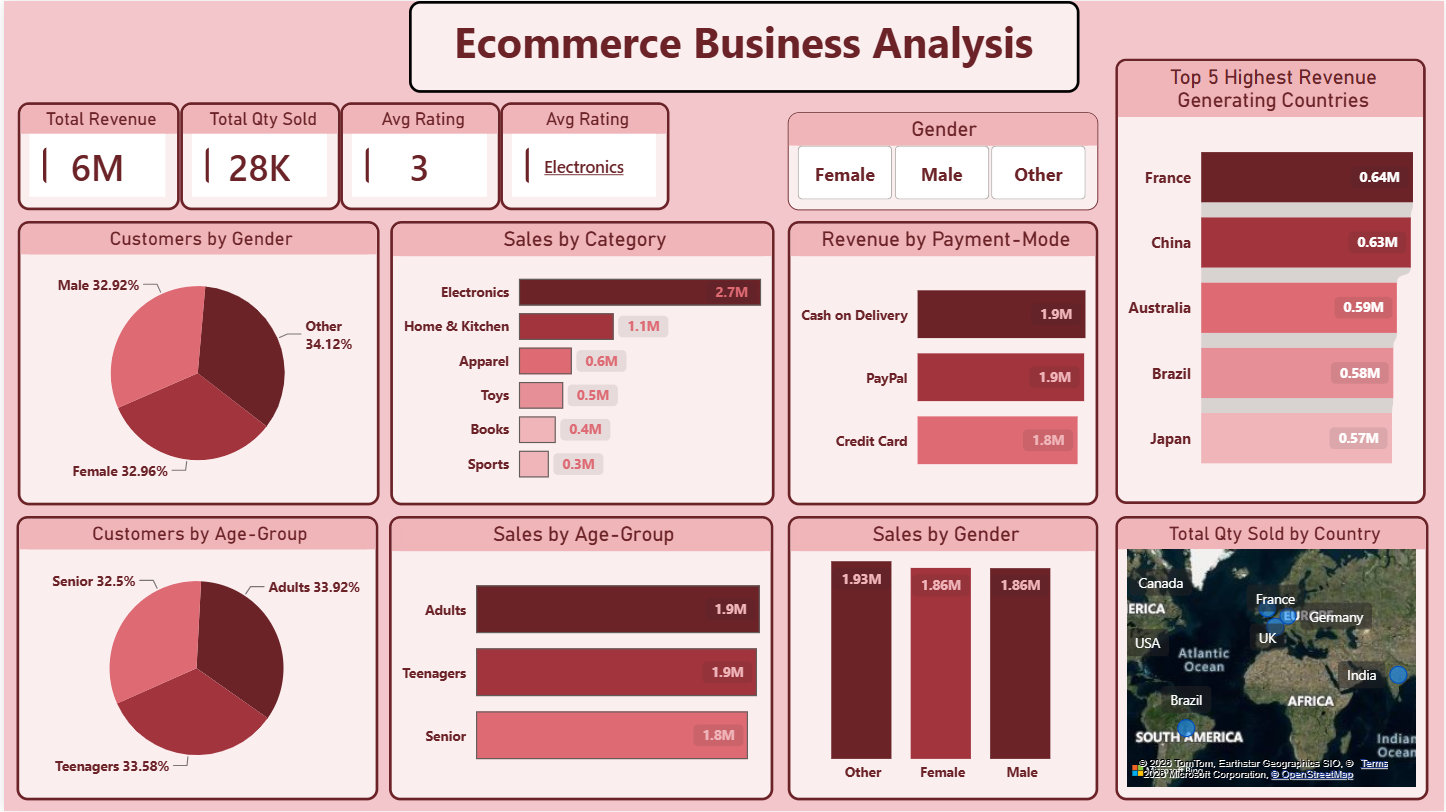

What the dashboard file says about the page in this screenshot:
{"tool":"powerbi","page":{"name":"Page 1","canvas":[1280,720],"ordinal":0},"visuals":[{"type":"cardVisual","title":"Total Revenue","fields":{"Data":["cleaned.Total Revenue"]},"box":[12.5,90,143.8,96.2],"z":0},{"type":"cardVisual","title":"Total Qty Sold","fields":{"Data":["cleaned.Total Qty Sold"]},"box":[156.2,90,142.5,96.2],"z":1},{"type":"cardVisual","title":"Avg Rating","fields":{"Data":["cleaned.Avg Rating"]},"box":[298.8,90,142.5,96.2],"z":2},{"type":"cardVisual","title":"Avg Rating","fields":{"Data":["cleaned.TopCategory"]},"box":[441.2,90,150,96.2],"z":3},{"type":"barChart","title":"Sales by Category","fields":{"Y":["cleaned.Total Revenue"],"Category":["cleaned.category"]},"box":[343.8,195,341.2,252.5],"z":4},{"type":"barChart","title":"Sales by Age-Group","fields":{"Y":["cleaned.Total Revenue"],"Category":["cleaned.age_group"]},"box":[342.5,457.5,341.2,252.5],"z":5},{"type":"pieChart","title":"Customers by Age-Group","fields":{"Category":["cleaned.age_group"],"Y":["cleaned.Total Revenue"]},"box":[11.2,457.5,321.2,252.5],"z":6},{"type":"pieChart","title":"Customers by Gender","fields":{"Category":["cleaned.gender"],"Y":["cleaned.Total Revenue"]},"box":[12.5,195,321.2,252.5],"z":7},{"type":"map","title":"Total Qty Sold by Country","fields":{"Category":["cleaned.country"],"Size":["cleaned.Total Qty Sold"]},"box":[987.5,457.5,278.8,252.5],"z":8},{"type":"columnChart","title":"Sales by Gender","fields":{"Category":["cleaned.gender"],"Y":["cleaned.Total Revenue"]},"box":[696.2,457.5,276.2,252.5],"z":10},{"type":"barChart","title":"Revenue by Payment-Mode","fields":{"Y":["cleaned.Total Revenue"],"Category":["cleaned.payment_method"]},"box":[696.2,195,276.2,252.5],"z":11},{"type":"barChart","title":"Top 5 Highest Revenue Generating Countries","fields":{"Y":["cleaned.Total Revenue"],"Category":["cleaned.country"]},"box":[987.5,51.2,276.2,396.2],"z":12},{"type":"advancedSlicerVisual","title":"Gender","fields":{"Values":["cleaned.gender"]},"box":[696.2,98.8,276.2,87.5],"z":13},{"type":"textbox","box":[360,0,596.2,81.2],"z":14}]}

Visuals, with their boxes in screenshot pixels (x1, y1, x2, y2), scaled from the page's 1280x720 canvas onto the 1446x812 screenshot:
"Total Revenue" cardVisual: bbox(14, 102, 177, 210)
"Total Qty Sold" cardVisual: bbox(176, 102, 337, 210)
"Avg Rating" cardVisual: bbox(338, 102, 499, 210)
"Avg Rating" cardVisual: bbox(498, 102, 668, 210)
"Sales by Category" barChart: bbox(388, 220, 774, 505)
"Sales by Age-Group" barChart: bbox(387, 516, 772, 801)
"Customers by Age-Group" pieChart: bbox(13, 516, 376, 801)
"Customers by Gender" pieChart: bbox(14, 220, 377, 505)
"Total Qty Sold by Country" map: bbox(1116, 516, 1431, 801)
"Sales by Gender" columnChart: bbox(786, 516, 1099, 801)
"Revenue by Payment-Mode" barChart: bbox(786, 220, 1099, 505)
"Top 5 Highest Revenue Generating Countries" barChart: bbox(1116, 58, 1428, 505)
"Gender" advancedSlicerVisual: bbox(786, 111, 1099, 210)
textbox: bbox(407, 0, 1080, 92)
